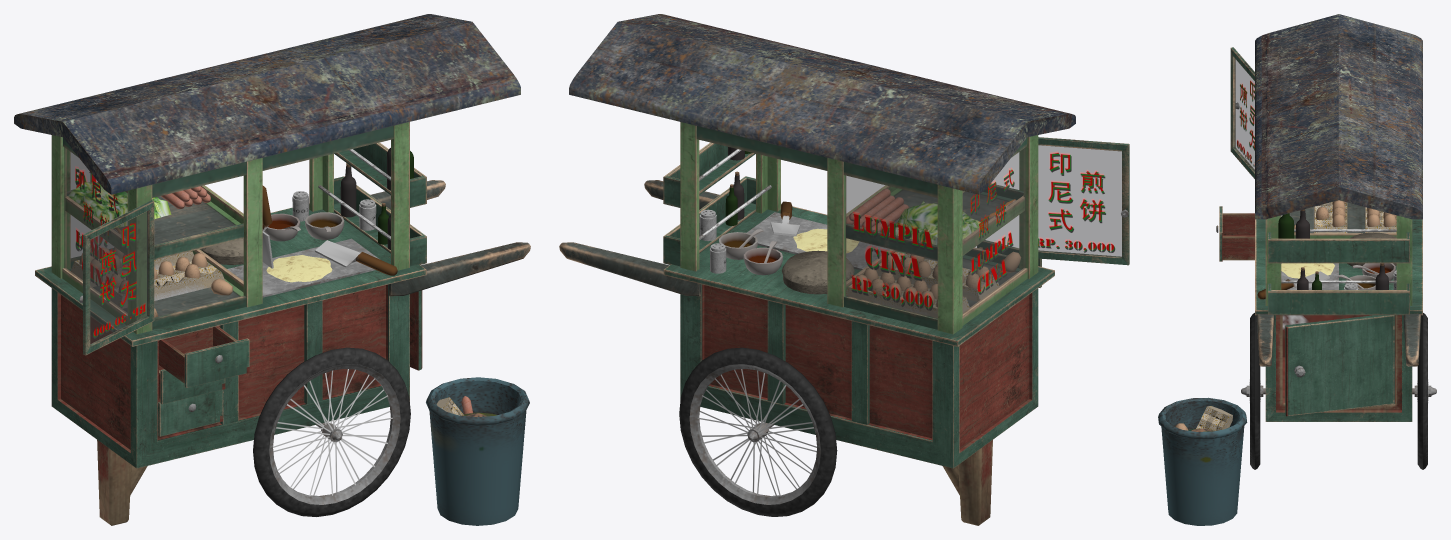
Rendered from food_cart_a.glb.
3 renders of one model, left to right at view 1: azimuth 30°, elevation 25°; view 2: azimuth 150°, elevation 25°; view 3: azimuth 270°, elevation 25°, orthographic. The views are drawn at different scales.
Parts seen in each view (by area): view 1: food_cart_a; view 2: food_cart_a; view 3: food_cart_a.
Boxes of the visible parts, <box> form: food_cart_a: <box>14,14,530,525</box>; food_cart_a: <box>559,14,1129,525</box>; food_cart_a: <box>1158,14,1436,525</box>.
Bounding box in the file's own units: 2.3 × 1.93 × 1.37.
5 materials, 4 textured.
